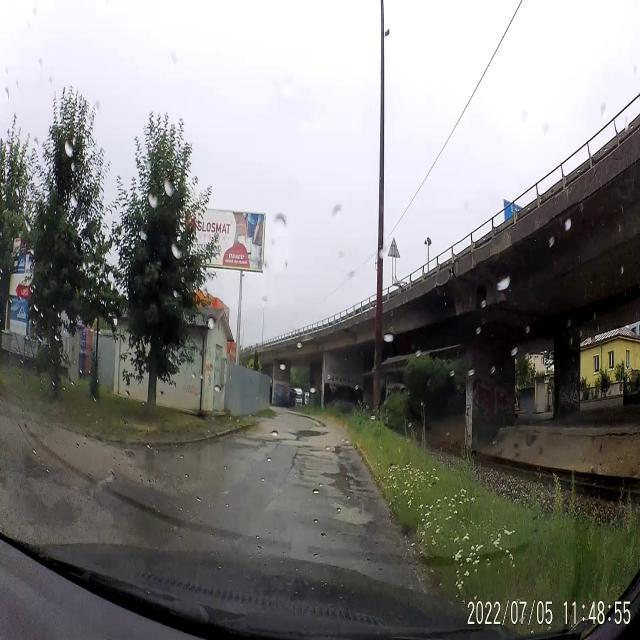Pothole: (322, 462, 364, 513), (95, 464, 118, 490), (287, 428, 330, 440), (328, 441, 350, 458)
